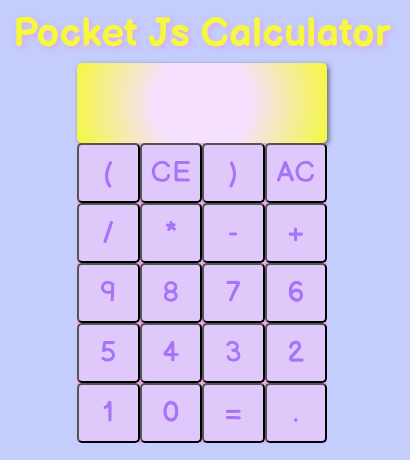
state is updated when a button is clicked
This screenshot has width=410, height=460.
Click the button with test id "(" at [108, 172], box x1=77 y1=142 x2=140 y2=202
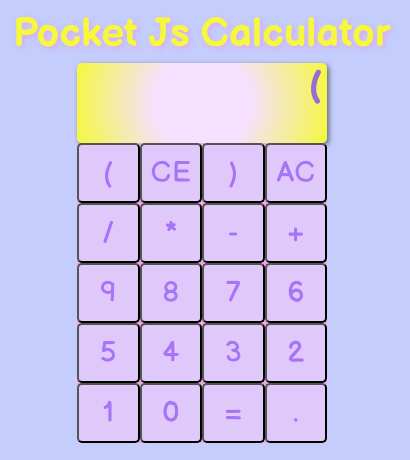
Expected: the element with test id "result" reads "(", x1=309 y1=62 x2=322 y2=106
